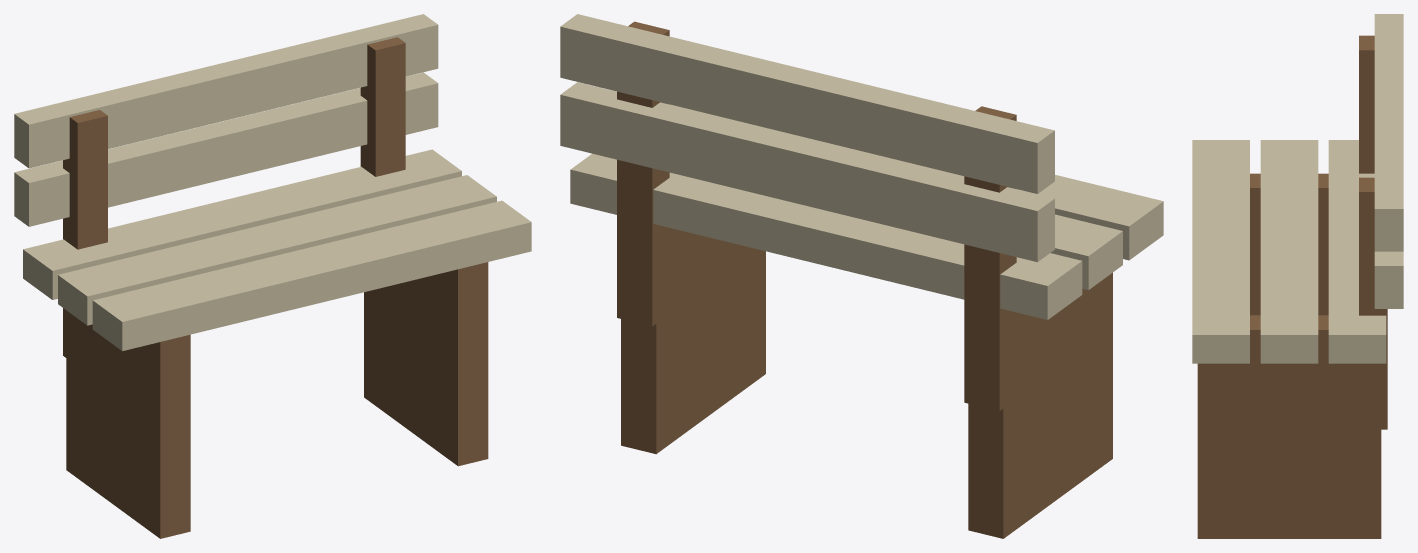
File: decoration-bench.glb
The picture shows the model from 3 angles, left to right: view 1: azimuth 30°, elevation 25°; view 2: azimuth 150°, elevation 25°; view 3: azimuth 270°, elevation 25°; orthographic projection. The views are drawn at different scales.
Visible parts, largest first — view 1: decoration-bench-visual; view 2: decoration-bench-visual; view 3: decoration-bench-visual.
Part boxes in pixels (bbox=[...]): decoration-bench-visual: bbox=[14, 14, 531, 538]; decoration-bench-visual: bbox=[560, 14, 1163, 538]; decoration-bench-visual: bbox=[1192, 14, 1403, 538].
Size of the model in its own units: 0.88 by 0.735 by 0.4025.
